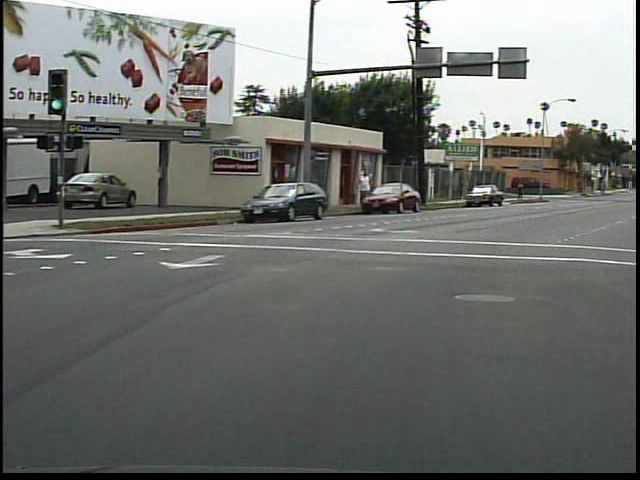person: (356, 165, 379, 212), (516, 178, 528, 205)
